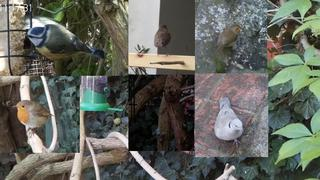blue tit: (24, 24, 104, 60)
collared dove: (214, 97, 244, 149)
robin: (12, 100, 56, 138), (215, 24, 243, 55), (154, 24, 171, 57)
